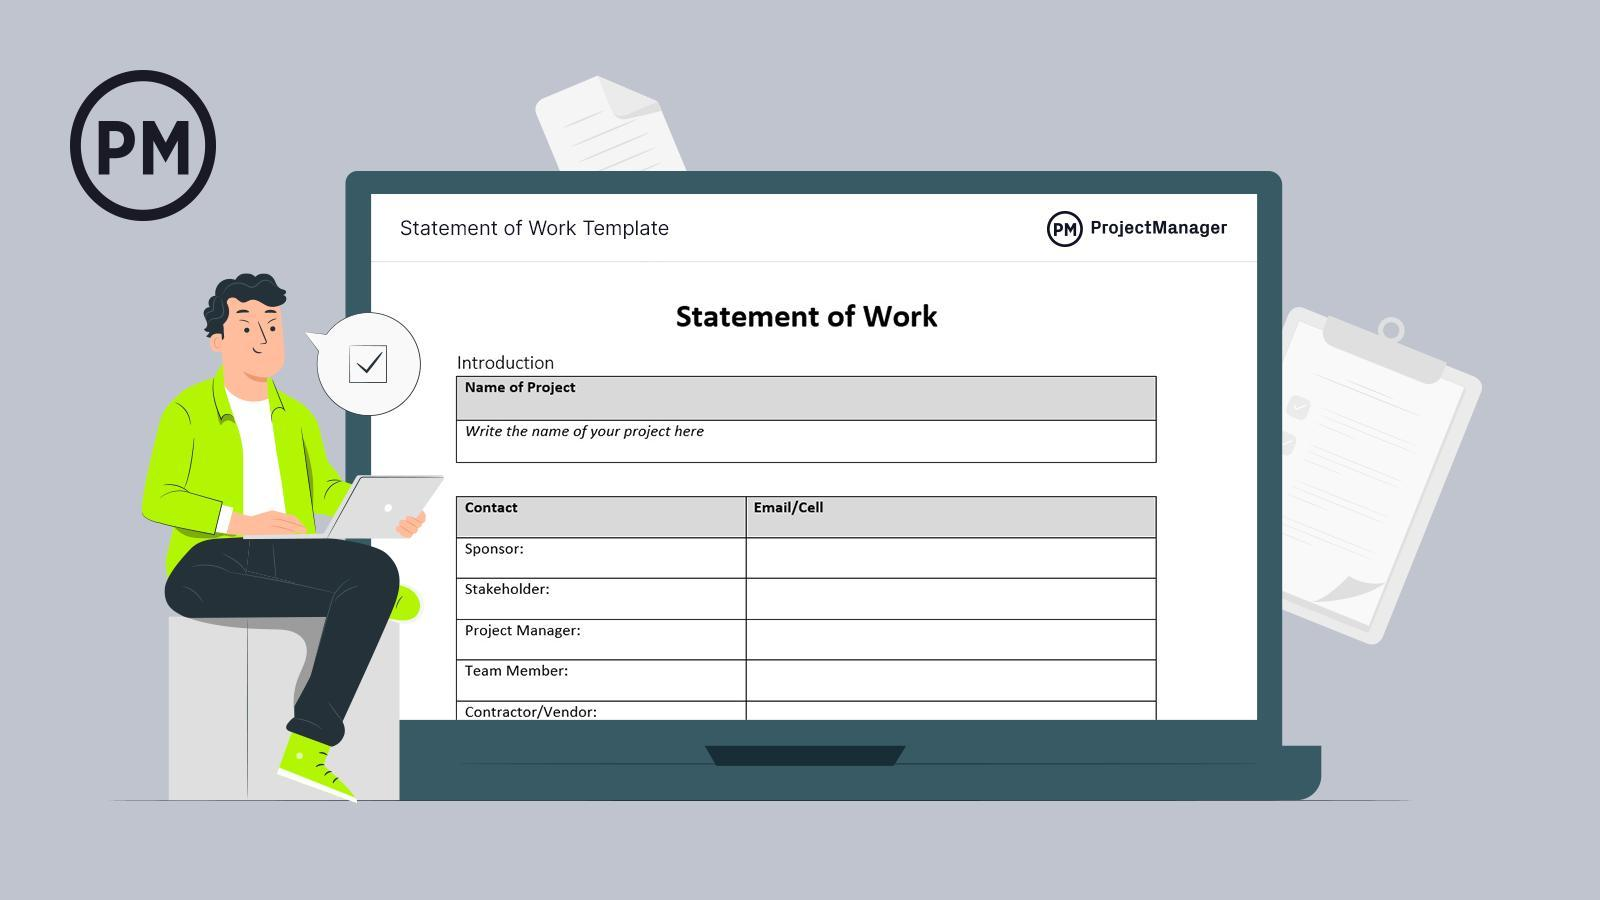input: (457, 421, 1157, 464)
table: (456, 495, 1159, 719)
